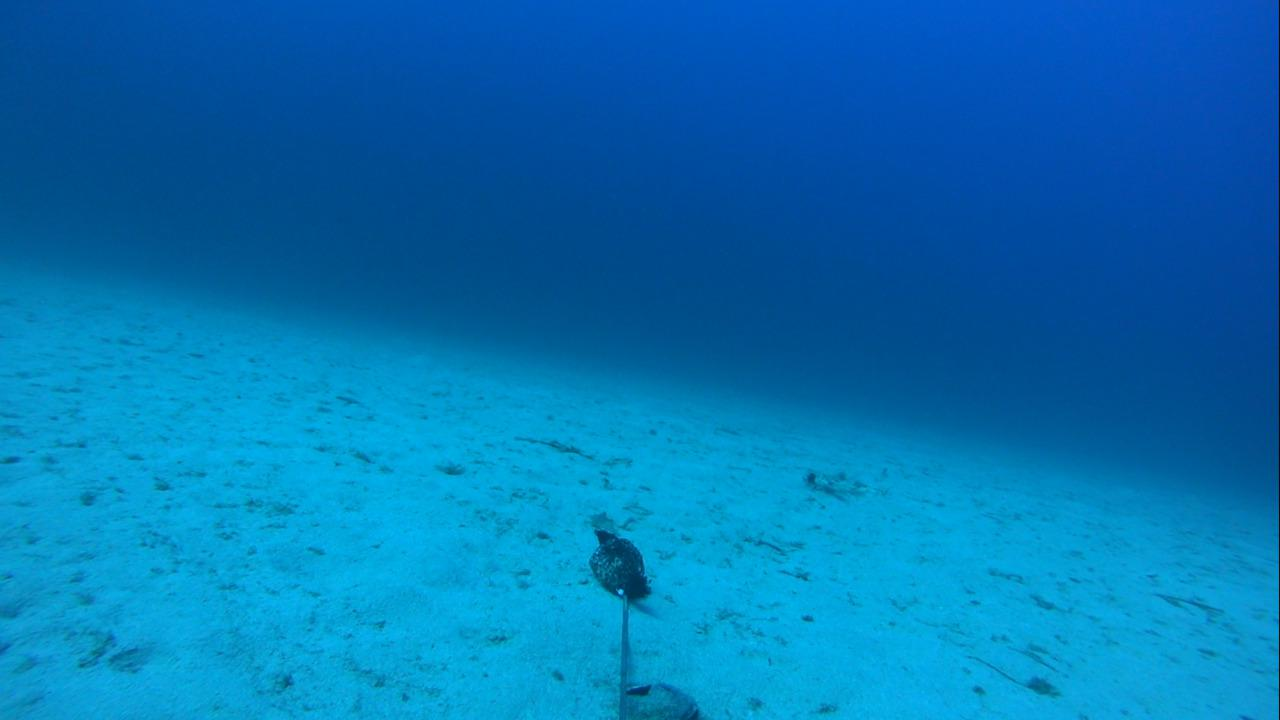dactylopterus: (789, 460, 879, 499)
